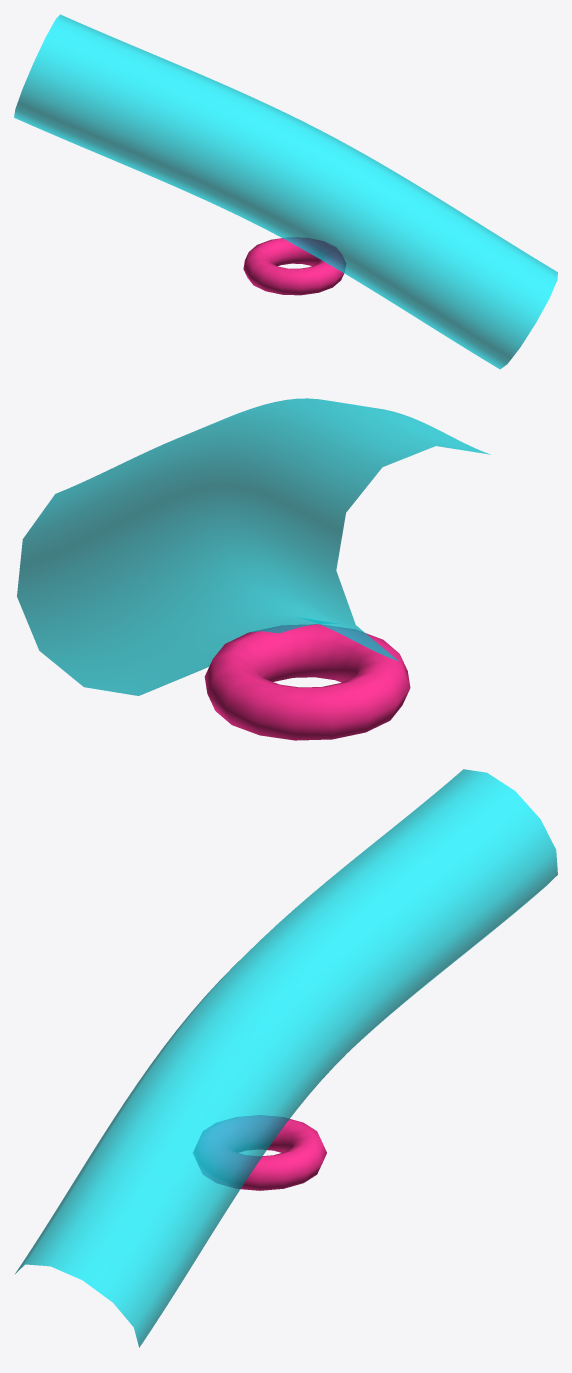
Rendered from water_slide.glb.
3 views of the same model, one above another, from view 1: azimuth 30°, elevation 25°; view 2: azimuth 150°, elevation 25°; view 3: azimuth 270°, elevation 25° (orthographic). The views are drawn at different scales.
Visible parts, largest first — view 1: model_water_slide; view 2: model_water_slide; view 3: model_water_slide.
Boxes of the visible parts, <box> form: model_water_slide: <box>14,14,557,369</box>; model_water_slide: <box>17,398,490,740</box>; model_water_slide: <box>15,769,557,1347</box>.
Size of the model in its own units: 4.87 by 3.58 by 4.45.
